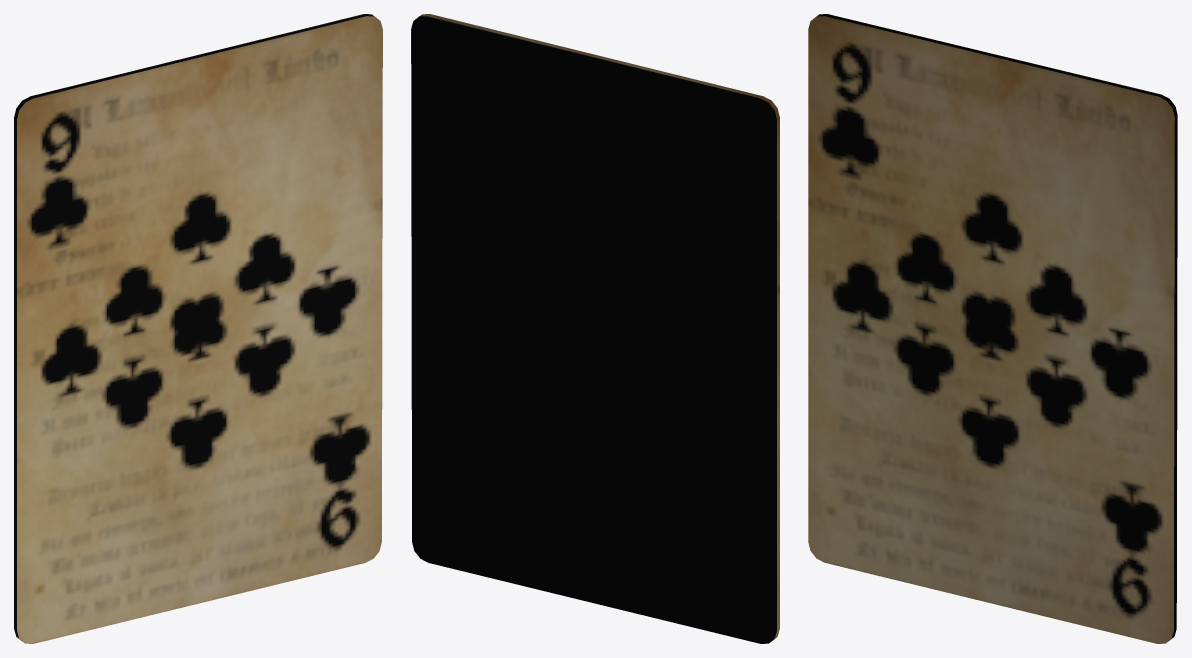
File: Card.009.fbx
3 renders of one model, left to right at view 1: azimuth 30°, elevation 25°; view 2: azimuth 150°, elevation 25°; view 3: azimuth 330°, elevation 25°, orthographic.
Visible parts, largest first — view 1: Card.009; view 2: Card.009; view 3: Card.009.
Part boxes in pixels (<box>): Card.009: <box>14,14,382,643</box>; Card.009: <box>411,14,779,643</box>; Card.009: <box>808,14,1177,643</box>.
Size of the model in its own units: 11.23 by 16.03 by 0.1561.
